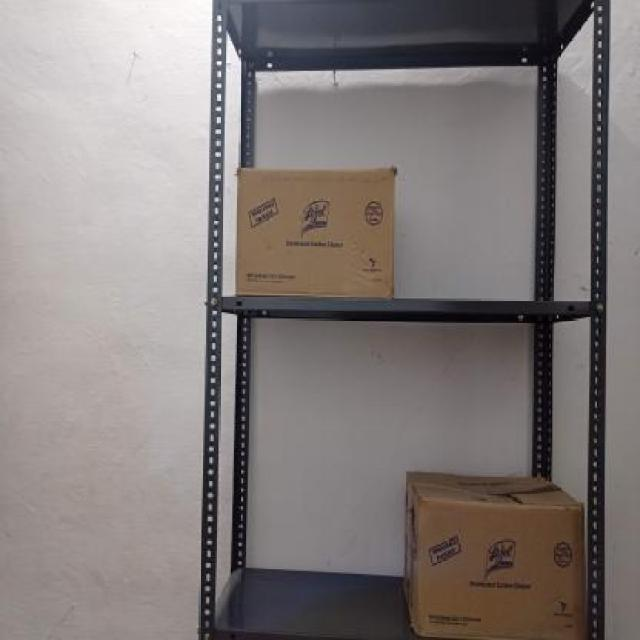box: (412, 497, 590, 640), (236, 163, 393, 297)
